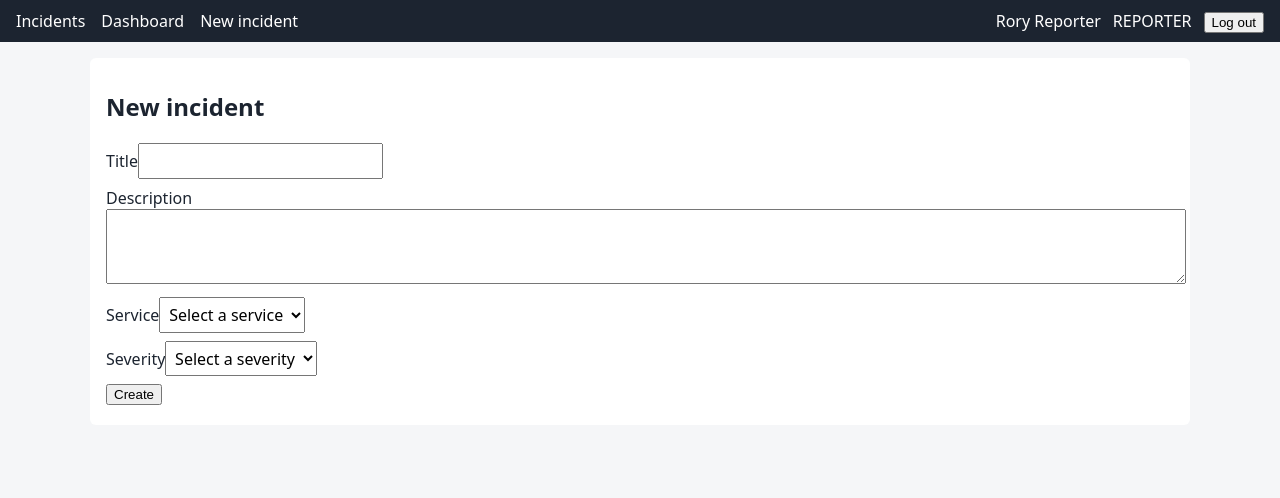
it: create incident page › shows client-side field errors and does not call the API
The width and height of the screenshot is (1280, 498).
Expected: the button with test id "new-submit" is shown, [106, 384, 162, 405]
Type "abc" into the field with test id "new-title". click: (260, 161)
box: [138, 143, 383, 179]
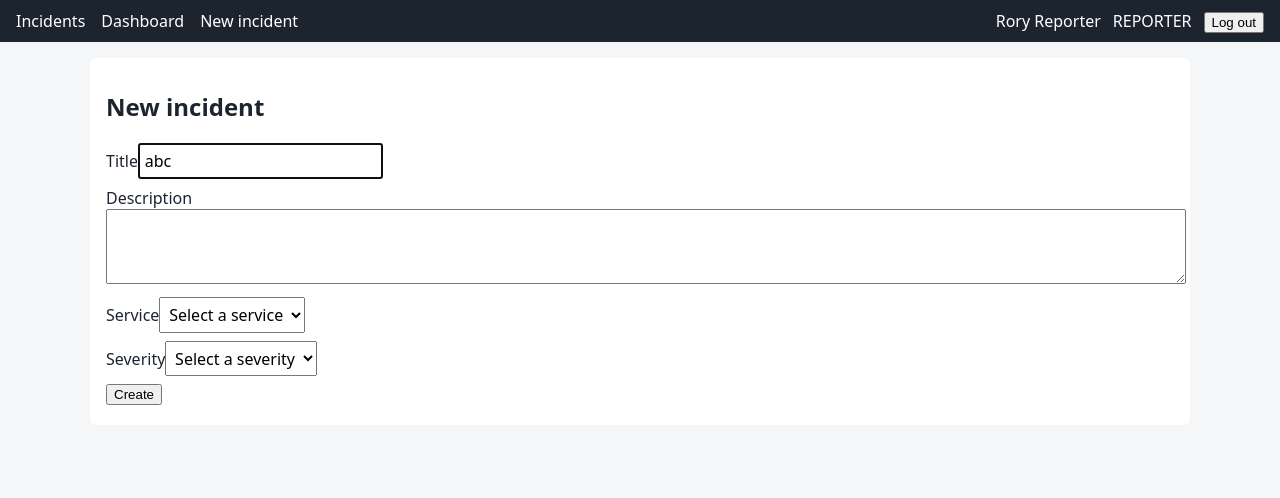
Click the button with test id "new-submit". click: (134, 395)
box: [106, 384, 162, 405]
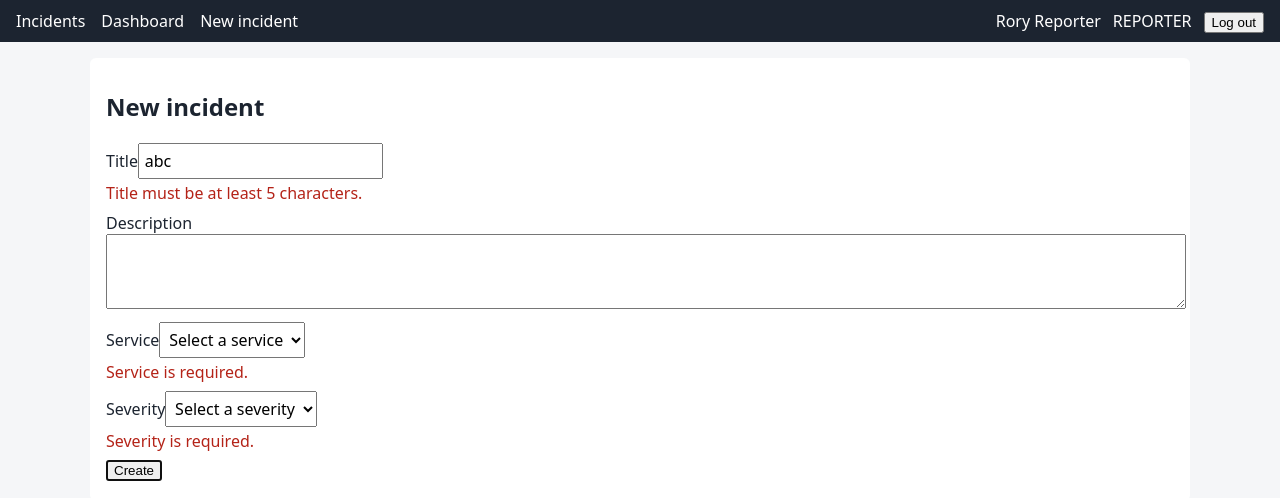
Expected: the text "Title must be at least 5 characters." is shown, [106, 182, 362, 204]
Expected: the text "Service is required." is shown, [106, 361, 248, 383]
Expected: the text "Severity is required." is shown, [106, 430, 254, 452]
